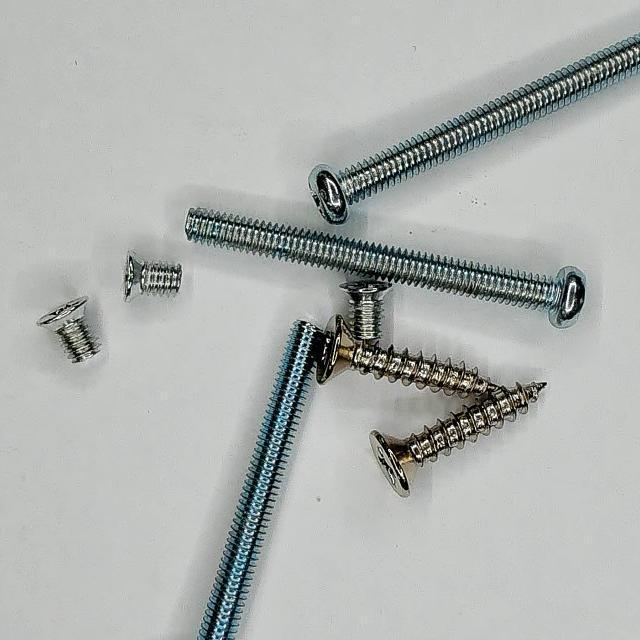Screw: (309, 34, 640, 224), (185, 208, 586, 328), (197, 321, 325, 640), (370, 384, 548, 498), (317, 315, 501, 398), (36, 297, 100, 363), (340, 279, 392, 346), (123, 252, 181, 302)
